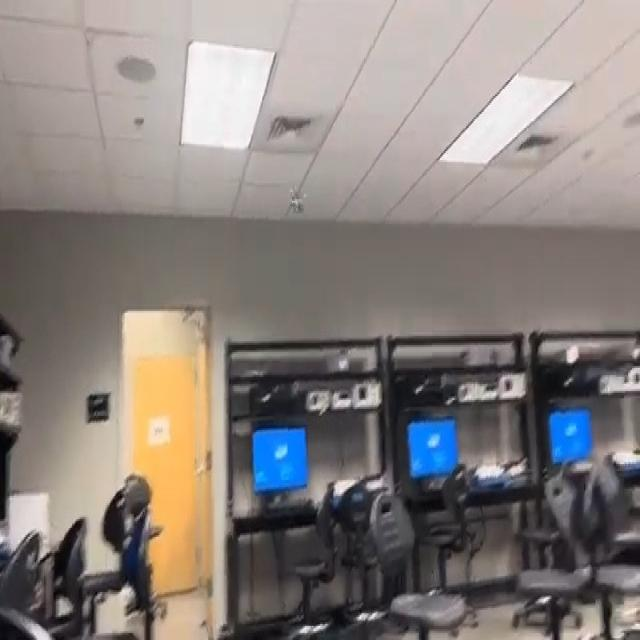drone: (282, 170, 312, 234)
